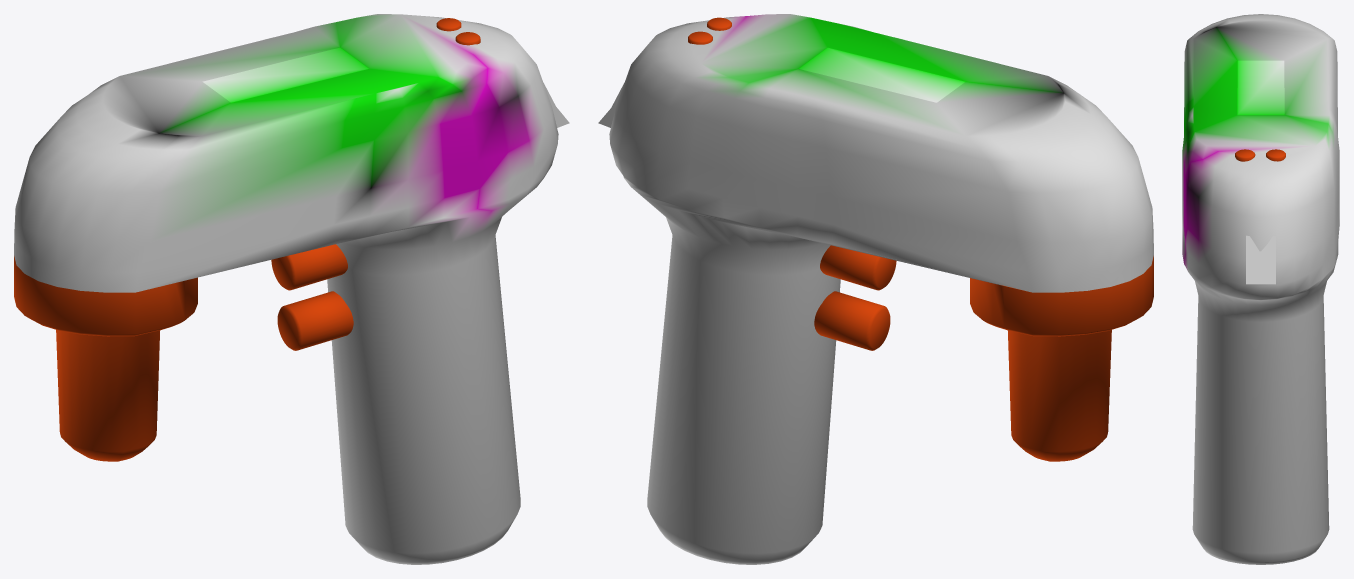
File: Spripette.fbx
3 renders of one model, left to right at view 1: azimuth 30°, elevation 25°; view 2: azimuth 150°, elevation 25°; view 3: azimuth 270°, elevation 25°, orthographic. The views are drawn at different scales.
Visible parts, largest first — view 1: Stripette.001; view 2: Stripette.001; view 3: Stripette.001.
Part boxes in pixels (bbox=[...]): Stripette.001: bbox=[14, 14, 569, 564]; Stripette.001: bbox=[598, 14, 1153, 564]; Stripette.001: bbox=[1182, 14, 1339, 564].
Size of the model in its own units: 243 by 217 by 75.94.
